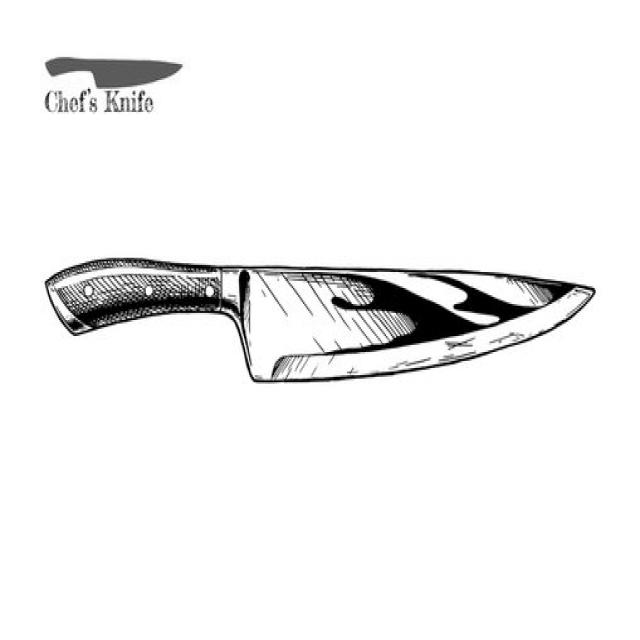Knife: (45, 234, 587, 409)
